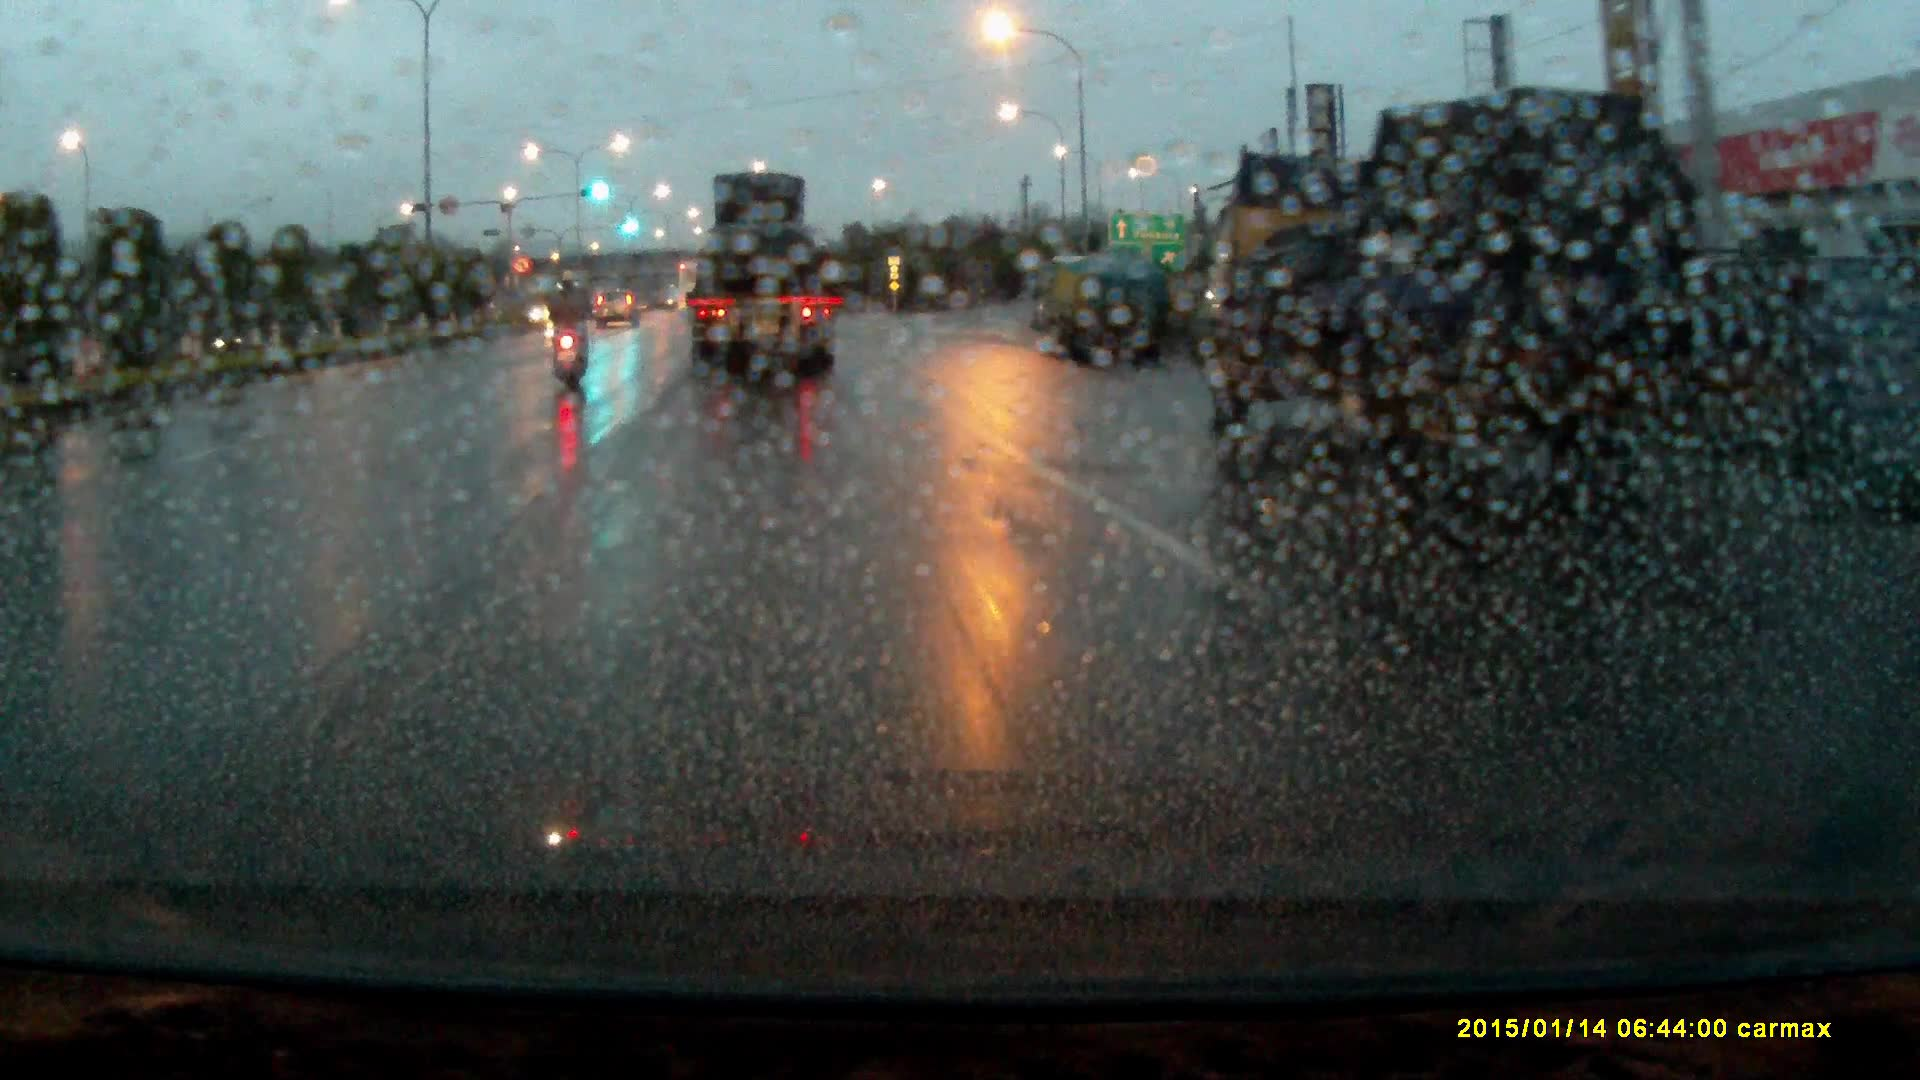rider: (546, 272, 598, 399)
vehicle: (1207, 89, 1792, 508), (682, 172, 840, 385), (1022, 261, 1176, 363), (599, 292, 643, 335), (677, 263, 702, 314)
